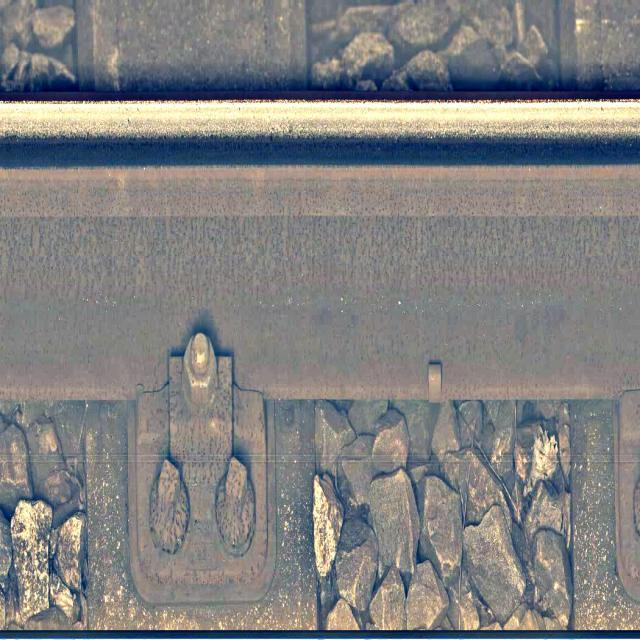Good Fasteners: (129, 332, 274, 602)
